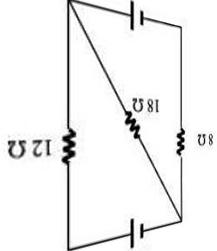resistor: (115, 104, 138, 142)
